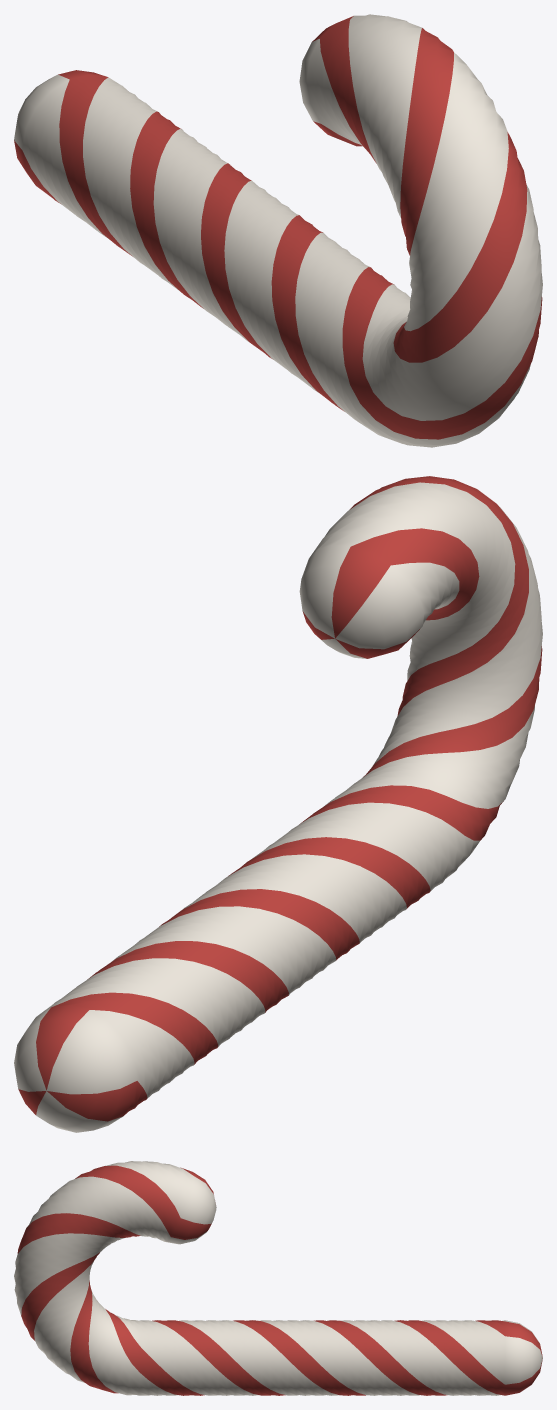
Rendered from grap_candy.glb.
The picture shows the model from 3 angles, top to bottom: view 1: azimuth 30°, elevation 25°; view 2: azimuth 150°, elevation 25°; view 3: azimuth 270°, elevation 25°; orthographic projection. The views are drawn at different scales.
Parts seen in each view (by area): view 1: candy_cane__pe7e1d7, candy_stripe__pb8443f; view 2: candy_cane__pe7e1d7, candy_stripe__pb8443f; view 3: candy_cane__pe7e1d7, candy_stripe__pb8443f.
Part boxes in pixels (x1,y1,x2,y2): candy_cane__pe7e1d7: (14,14,542,447); candy_stripe__pb8443f: (14,16,542,439); candy_cane__pe7e1d7: (14,482,542,1132); candy_stripe__pb8443f: (18,476,542,1121); candy_cane__pe7e1d7: (14,1161,542,1395); candy_stripe__pb8443f: (17,1165,542,1395).
Bounding box in the file's own units: 0.25 × 0.8289 × 1.74.
